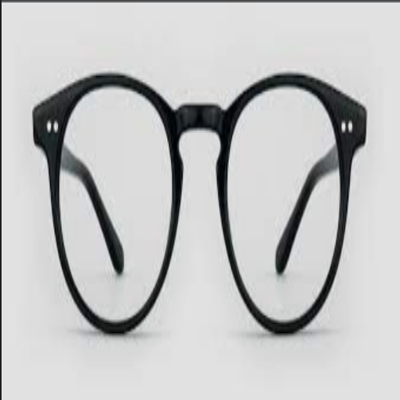glasses: (30, 67, 368, 339)
